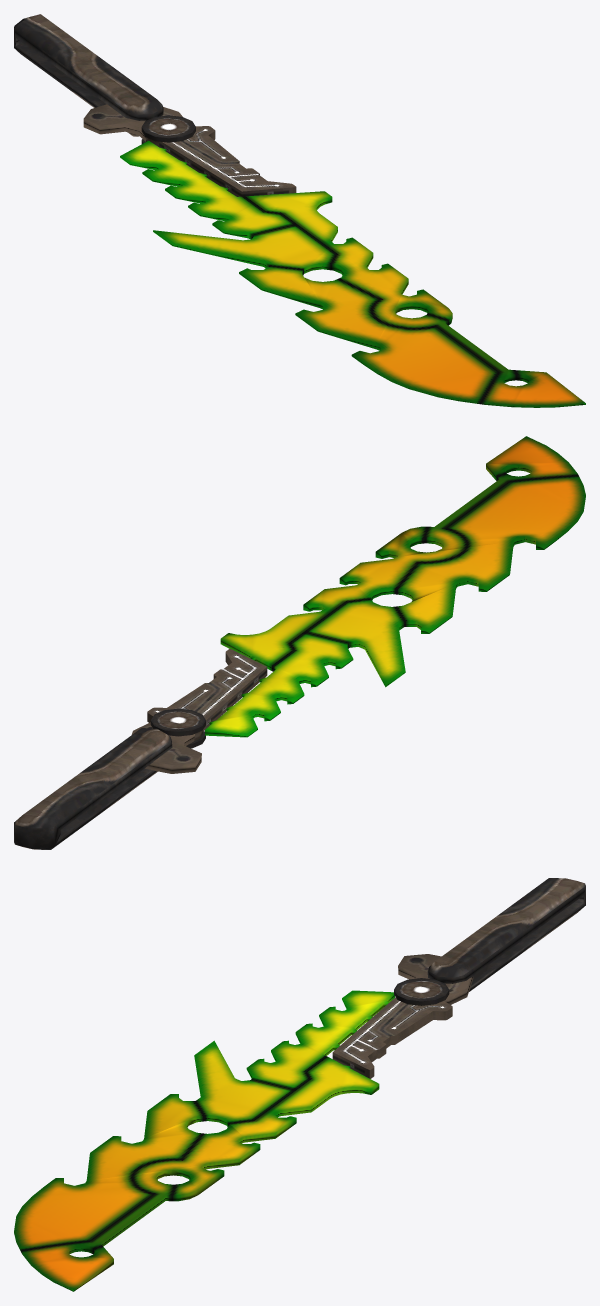
The model's file is Weapon_Sword_015.glb.
3 views of the same model, one above another, from view 1: azimuth 30°, elevation 25°; view 2: azimuth 150°, elevation 25°; view 3: azimuth 330°, elevation 25° (orthographic).
Visible parts, largest first — view 1: Weapon_Sword_015; view 2: Weapon_Sword_015; view 3: Weapon_Sword_015.
Boxes of the visible parts, x1,y1,x2,y2 form: Weapon_Sword_015: (14, 14, 585, 407); Weapon_Sword_015: (14, 436, 585, 849); Weapon_Sword_015: (14, 878, 585, 1291).
Bounding box in the file's own units: 0.2233 × 0.0397 × 1.22.
3 materials, 3 textured.
